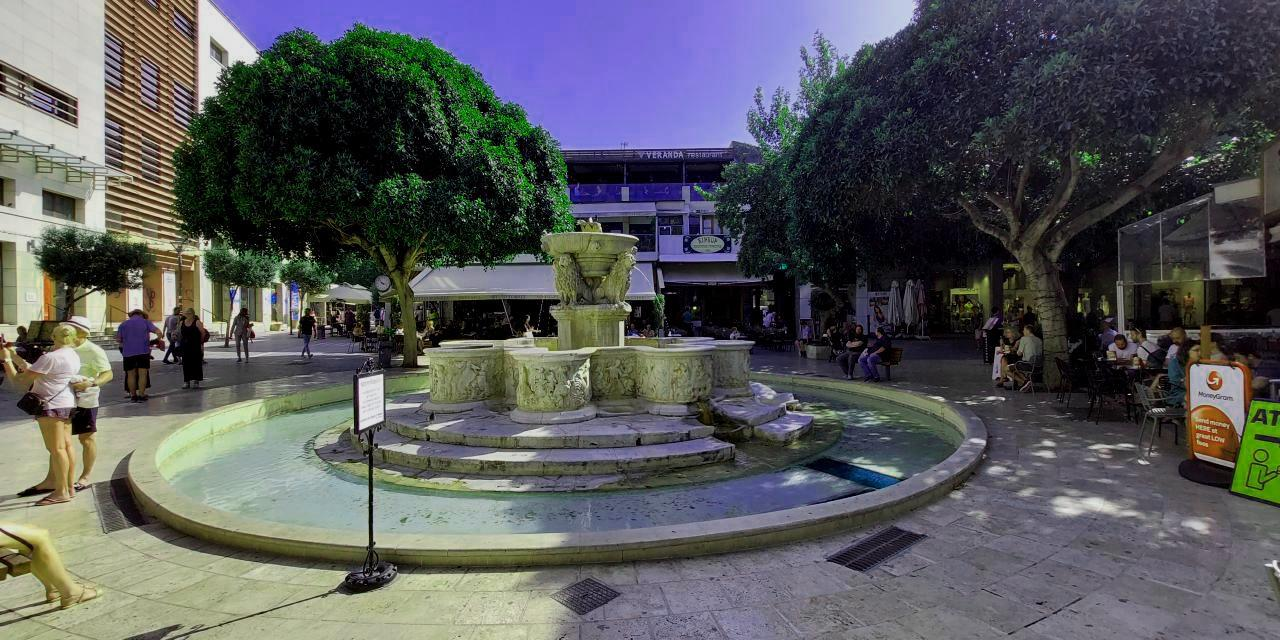Liontaria: (416, 229, 754, 420)
